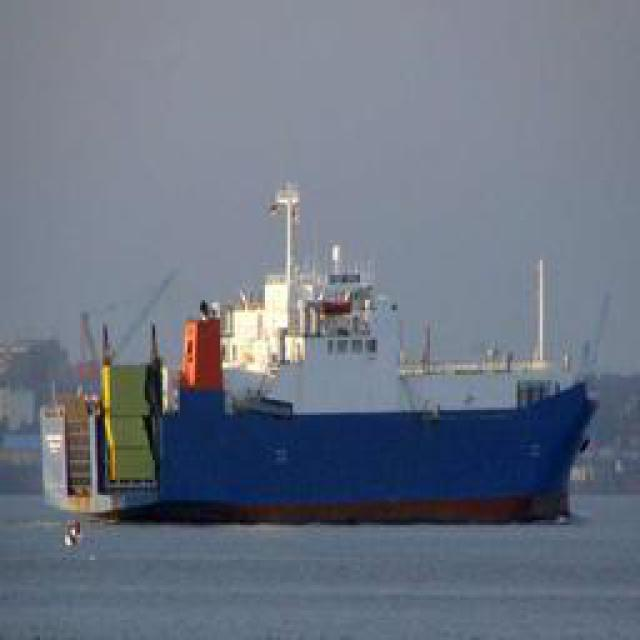Ship: (67, 177, 597, 520)
